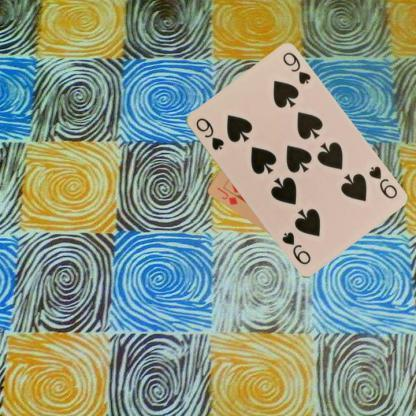9s: (192, 115, 226, 152), (366, 162, 398, 200)
Jd: (214, 184, 239, 206)
